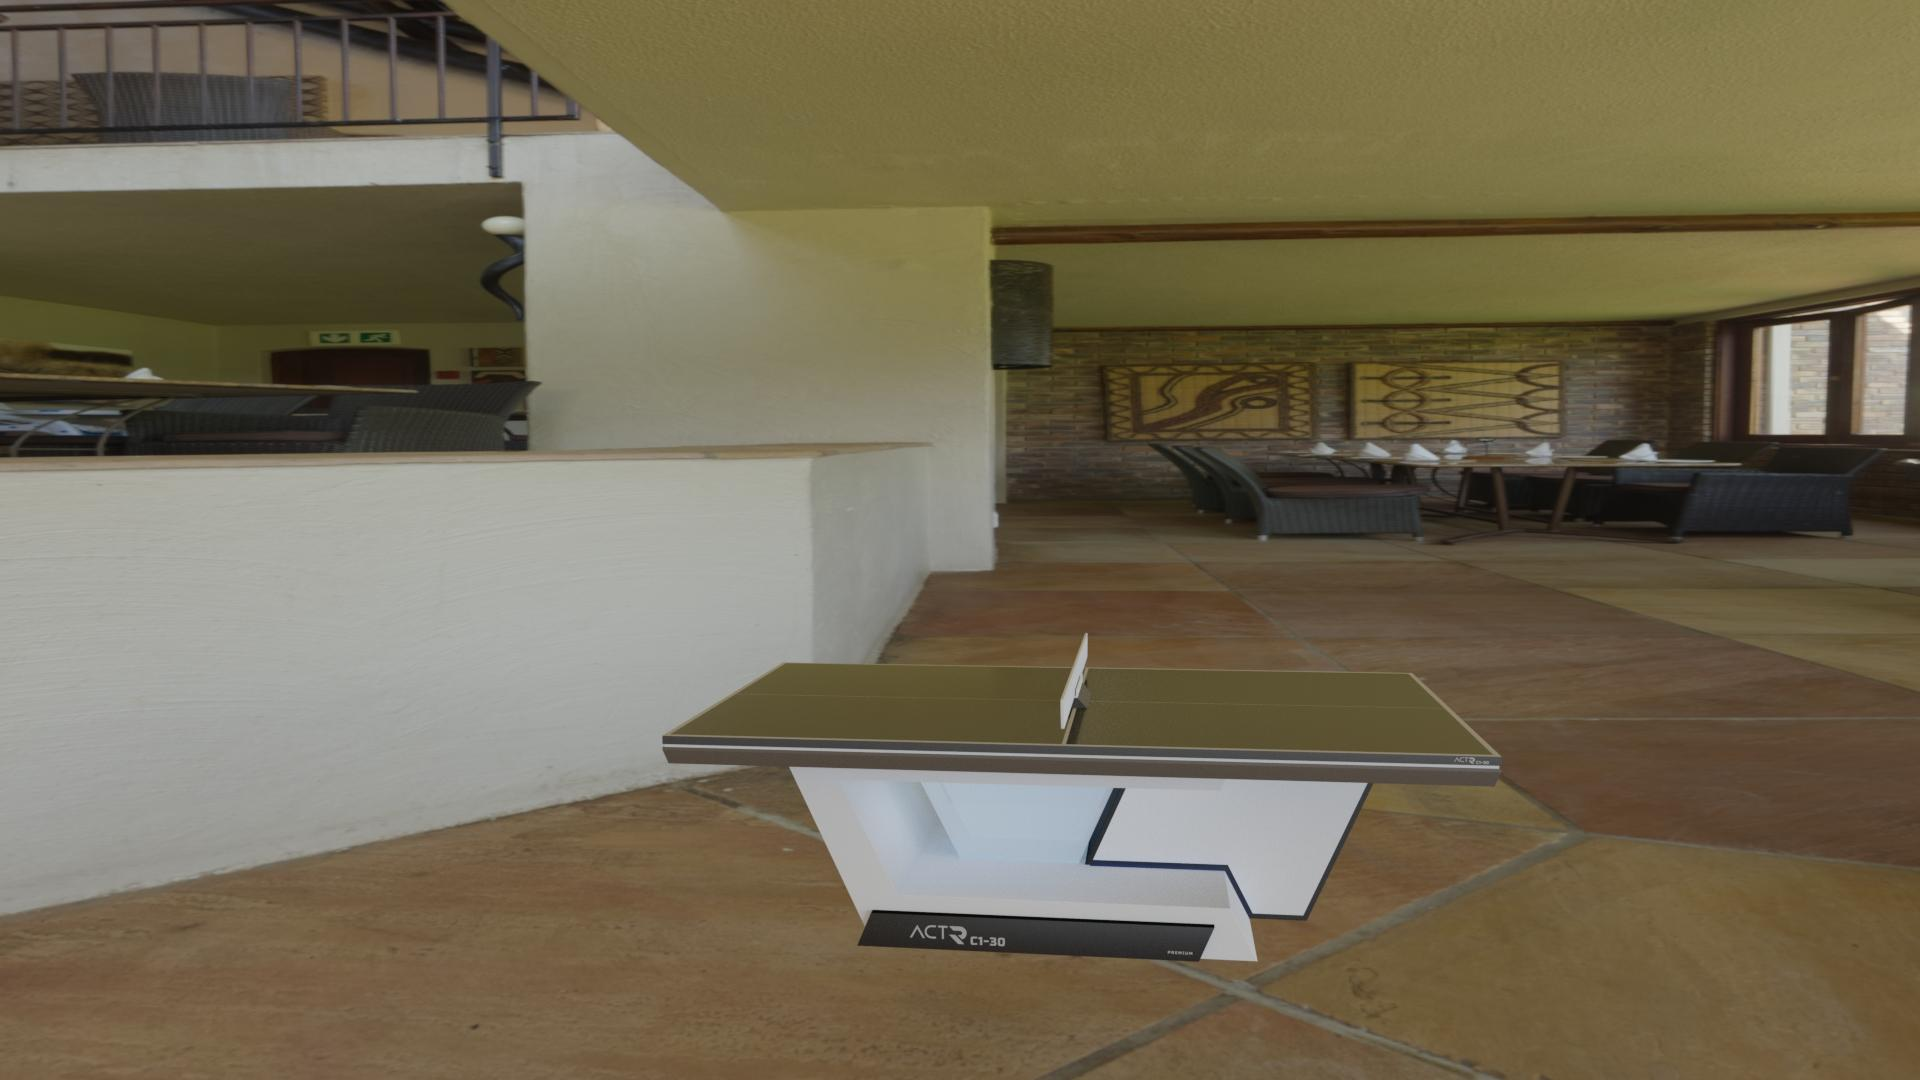table: (670, 663, 1493, 756)
